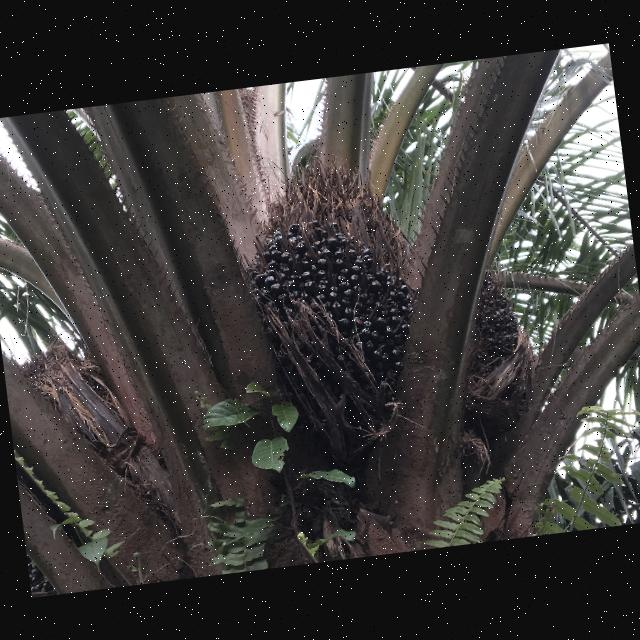Unripe: (255, 222, 415, 396)
